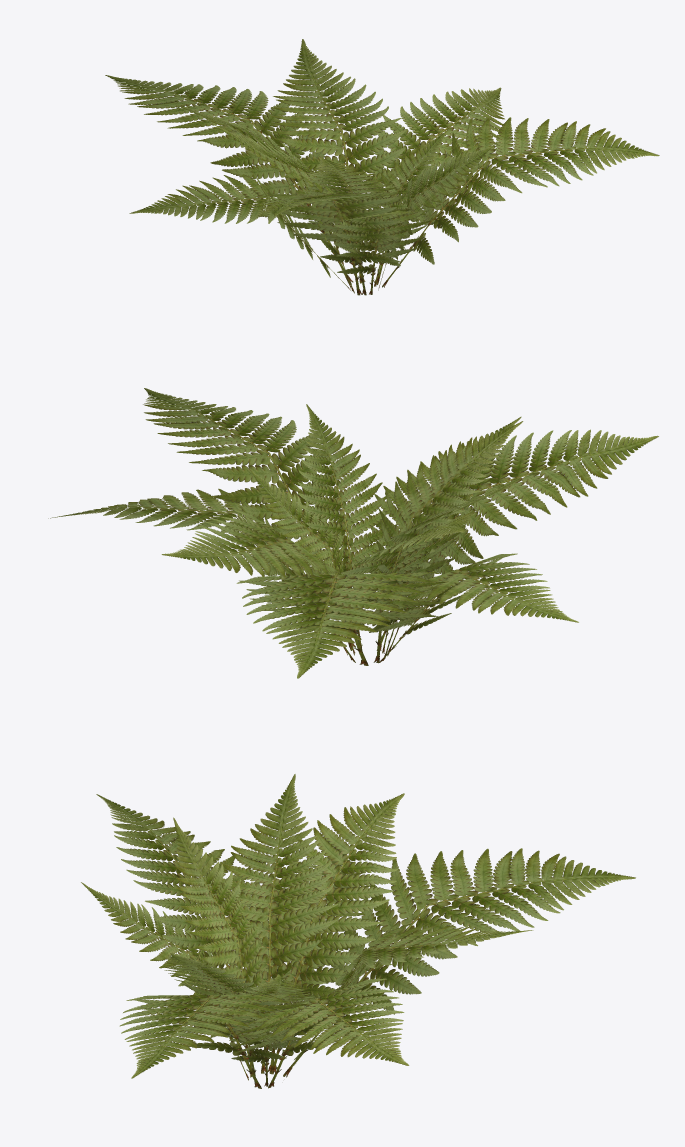
The model's file is fern_large_a_lod2.gltf.
The picture shows the model from 3 angles, top to bottom: view 1: azimuth 30°, elevation 25°; view 2: azimuth 150°, elevation 25°; view 3: azimuth 270°, elevation 25°; orthographic projection. The views are drawn at different scales.
Visible parts, largest first — view 1: fern_large_a_LOD2; view 2: fern_large_a_LOD2; view 3: fern_large_a_LOD2.
Boxes of the visible parts, x1,y1,x2,y2 form: fern_large_a_LOD2: [105, 39, 659, 295]; fern_large_a_LOD2: [48, 388, 658, 678]; fern_large_a_LOD2: [81, 774, 635, 1088].
Size of the model in its own units: 2.04 by 0.8048 by 1.97.
1 material, 1 textured.
